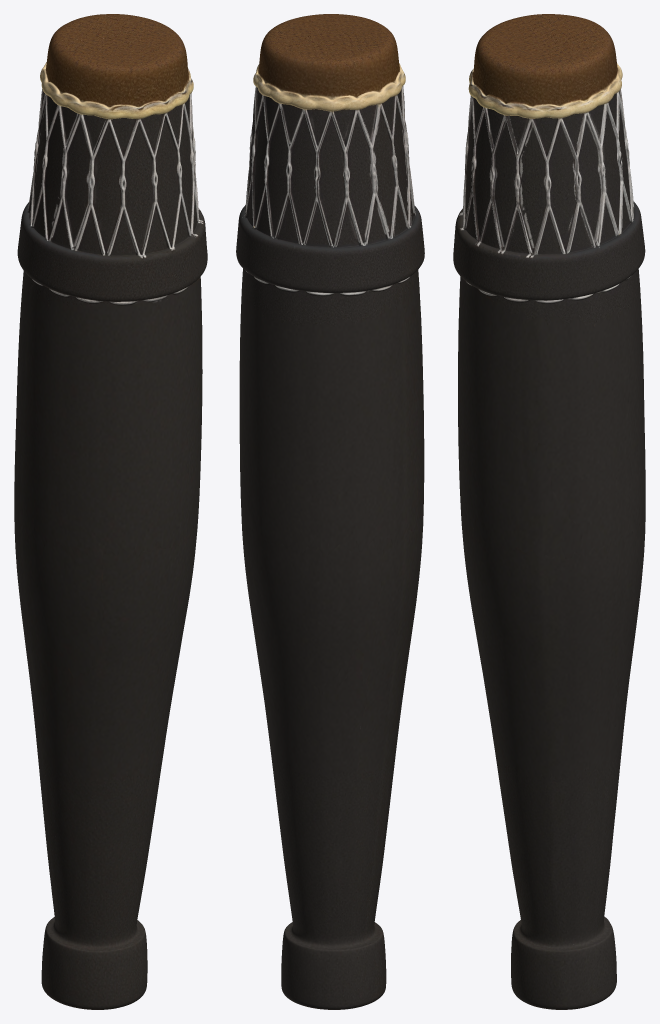
Rendered from benguet-solibao.glb.
3 views of the same model, side by side, from view 1: azimuth 30°, elevation 25°; view 2: azimuth 150°, elevation 25°; view 3: azimuth 270°, elevation 25° (orthographic).
Parts seen in each view (by area): view 1: Mesh_0005; view 2: Mesh_0005; view 3: Mesh_0005.
Part boxes in pixels (bbox=[...]): Mesh_0005: bbox=[14, 14, 207, 1009]; Mesh_0005: bbox=[236, 14, 424, 1009]; Mesh_0005: bbox=[453, 14, 645, 1009].
Bounding box in the file's own units: 0.2 × 1.1 × 0.2.
1 material, 1 textured.
